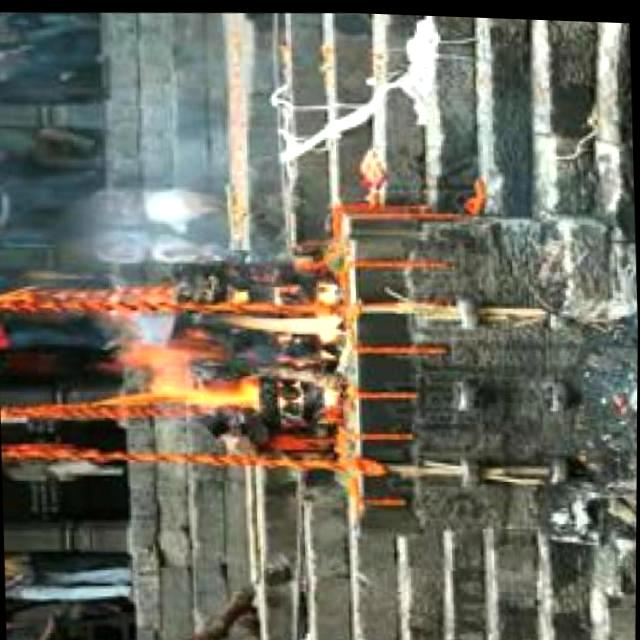fire: (91, 290, 352, 418)
